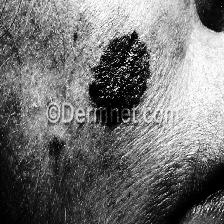Potentially Malignant Skin Tumors: (87, 30, 149, 125)
